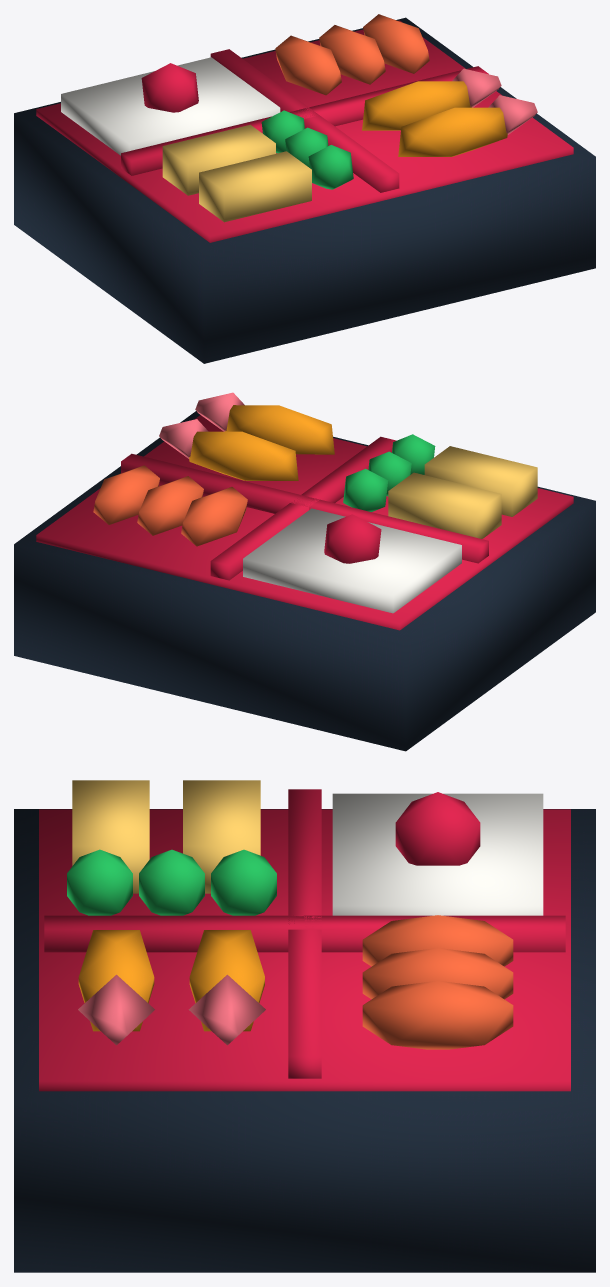
The model's file is w3_05_bento.glb.
The picture shows the model from 3 angles, top to bottom: view 1: azimuth 30°, elevation 25°; view 2: azimuth 150°, elevation 25°; view 3: azimuth 270°, elevation 25°; orthographic projection. The views are drawn at different scales.
Parts seen in each view (by area): view 1: W3_05_Bento; view 2: W3_05_Bento; view 3: W3_05_Bento.
Part boxes in pixels (bbox=[...]): W3_05_Bento: bbox=[14, 14, 595, 363]; W3_05_Bento: bbox=[14, 392, 595, 751]; W3_05_Bento: bbox=[14, 780, 595, 1272].
Bounding box in the file's own units: 2.5 × 1.06 × 2.1.
Materials: 1 (1 with a texture image).
